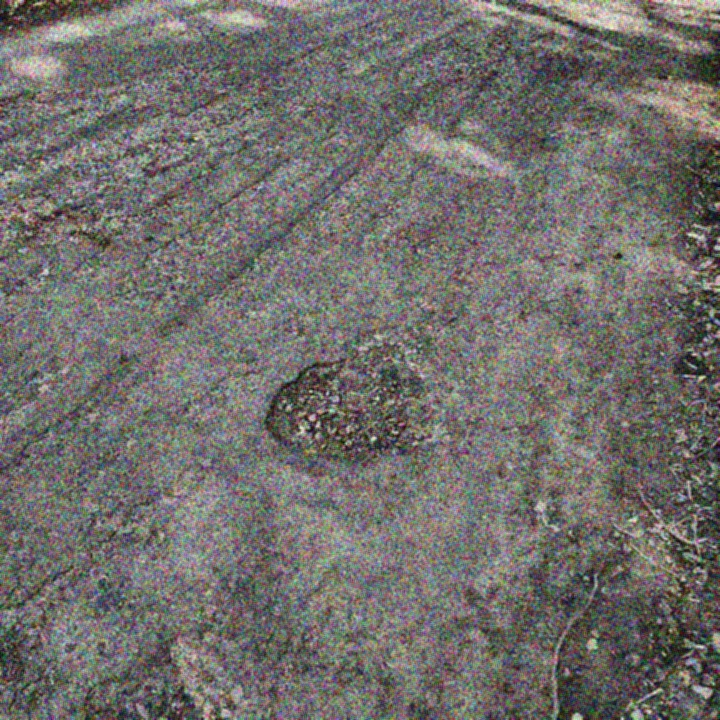pothole: (258, 353, 428, 463), (30, 200, 102, 245)
